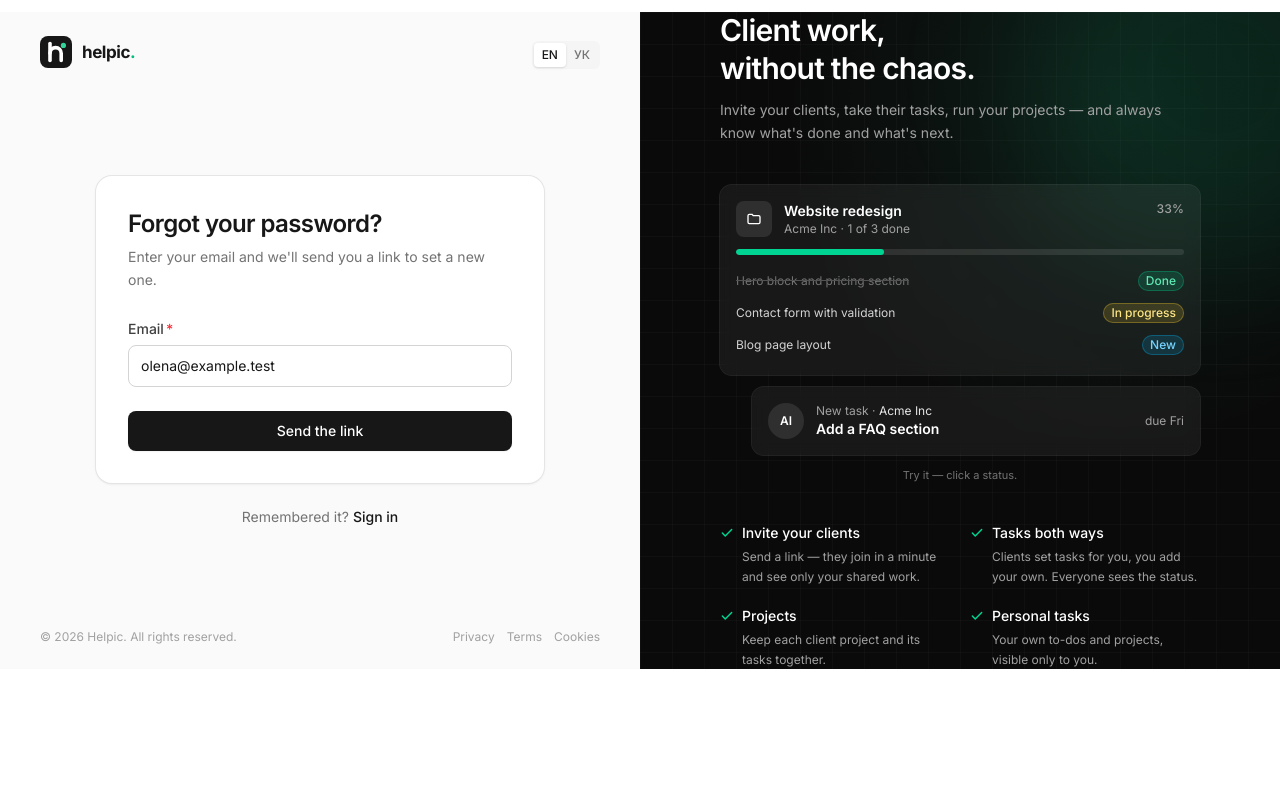
Test: ForgotPasswordView › sends a reset link to the address from the link, and can try another
Submit the form, box [128,319,512,451]
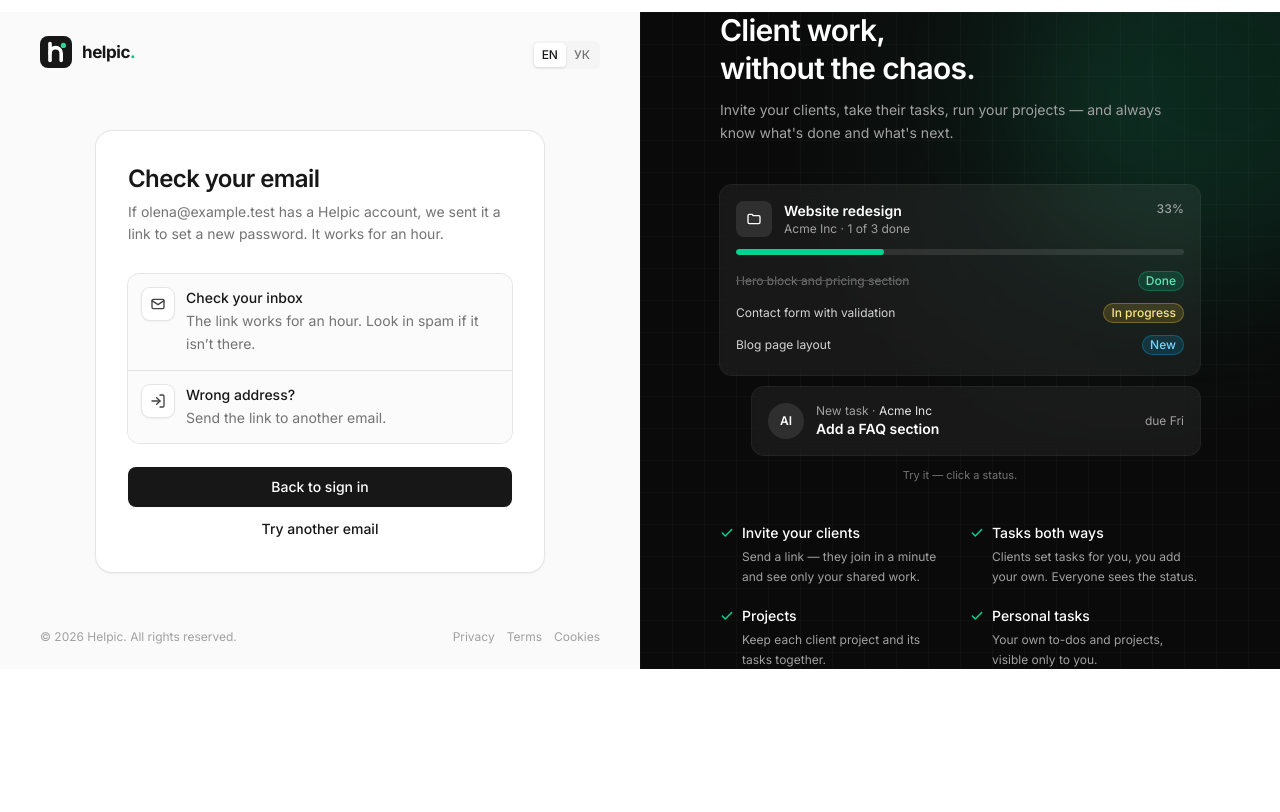
Click the button "Try another email" at x=320, y=529, box [128,519,512,539]
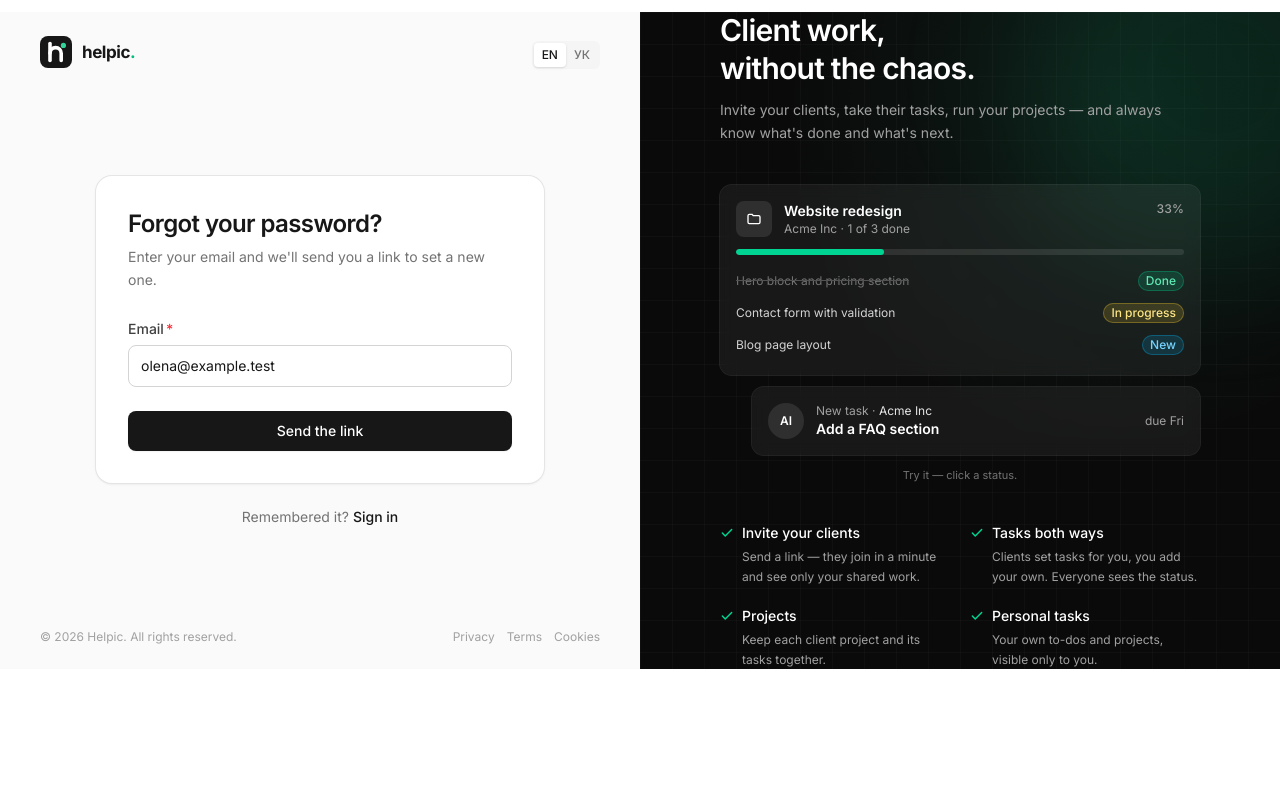
Expected: the form is shown, [128,319,512,451]
